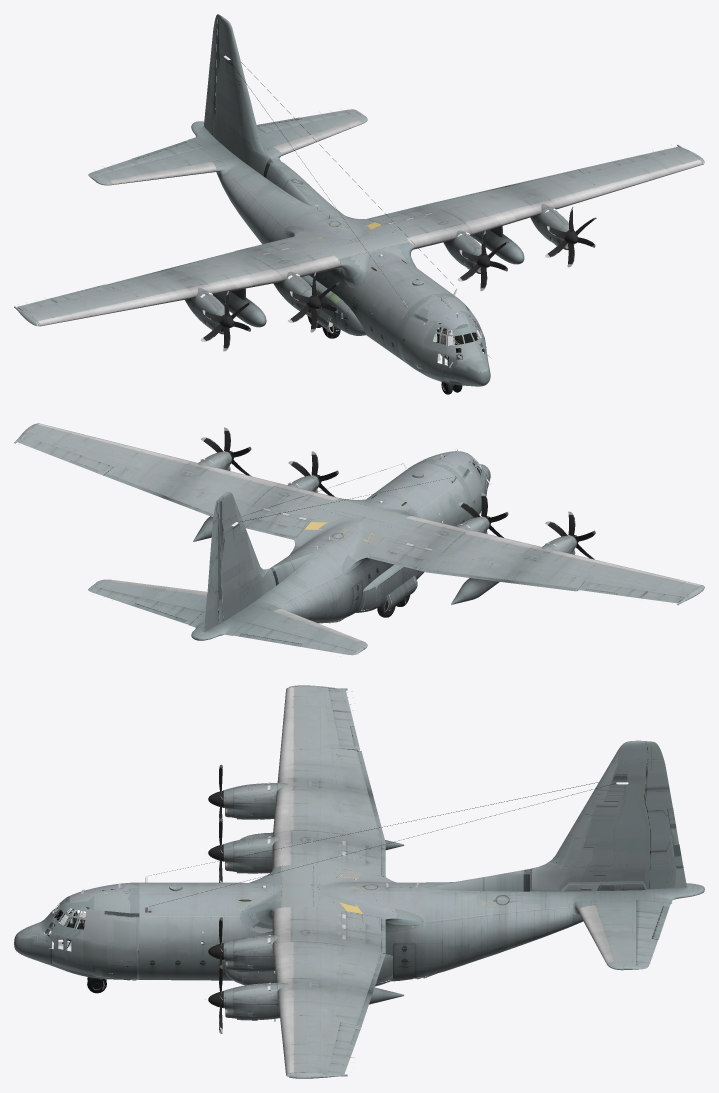
3 renders of one model, top to bottom at view 1: azimuth 30°, elevation 25°; view 2: azimuth 150°, elevation 25°; view 3: azimuth 270°, elevation 25°, orthographic. The views are drawn at different scales.
Parts seen in each view (by area): view 1: model_20_Material.006_0, model_51_Material.007_0, model_18_Material.003_0, model_3_Material.001_0, model_10_Material.002_0, model_8_Material_0, model_52_Material.005_0, model_17_Material.008_0, model_62.002_prop.002_0, model_62_prop_0, model_62.003_prop.003_0, model_62.001_prop.001_0; view 2: model_51_Material.007_0, model_20_Material.006_0, model_18_Material.003_0, model_10_Material.002_0, model_8_Material_0, model_3_Material.001_0, model_17_Material.008_0, model_52_Material.005_0, model_62.003_prop.003_0, model_62_prop_0, model_62.002_prop.002_0, model_62.001_prop.001_0; view 3: model_10_Material.002_0, model_51_Material.007_0, model_20_Material.006_0, model_8_Material_0, model_3_Material.001_0, model_18_Material.003_0, model_52_Material.005_0, model_17_Material.008_0.
Boxes of the visible parts, left/top/right/bottom form: model_20_Material.006_0: left=17, top=144, right=704, bottom=311; model_51_Material.007_0: left=14, top=146, right=683, bottom=326; model_18_Material.003_0: left=94, top=112, right=367, bottom=244; model_3_Material.001_0: left=95, top=180, right=490, bottom=386; model_10_Material.002_0: left=204, top=14, right=365, bottom=335; model_8_Material_0: left=279, top=205, right=455, bottom=363; model_52_Material.005_0: left=185, top=204, right=574, bottom=334; model_17_Material.008_0: left=88, top=109, right=576, bottom=285; model_62.002_prop.002_0: left=457, top=230, right=508, bottom=291; model_62_prop_0: left=201, top=291, right=252, bottom=351; model_62.003_prop.003_0: left=545, top=207, right=596, bottom=267; model_62.001_prop.001_0: left=288, top=272, right=339, bottom=332; model_51_Material.007_0: left=17, top=436, right=704, bottom=605; model_20_Material.006_0: left=14, top=423, right=683, bottom=603; model_18_Material.003_0: left=95, top=551, right=367, bottom=650; model_10_Material.002_0: left=204, top=492, right=424, bottom=631; model_8_Material_0: left=291, top=461, right=469, bottom=619; model_3_Material.001_0: left=232, top=451, right=490, bottom=650; model_17_Material.008_0: left=88, top=474, right=576, bottom=655; model_52_Material.005_0: left=193, top=451, right=577, bottom=604; model_62.003_prop.003_0: left=201, top=427, right=251, bottom=476; model_62_prop_0: left=545, top=511, right=595, bottom=559; model_62.002_prop.002_0: left=288, top=451, right=338, bottom=496; model_62.001_prop.001_0: left=458, top=492, right=508, bottom=537; model_10_Material.002_0: left=225, top=740, right=686, bottom=1020; model_51_Material.007_0: left=272, top=685, right=380, bottom=1074; model_20_Material.006_0: left=272, top=688, right=380, bottom=1078; model_8_Material_0: left=130, top=882, right=425, bottom=981; model_3_Material.001_0: left=14, top=865, right=671, bottom=980; model_18_Material.003_0: left=425, top=882, right=704, bottom=975; model_52_Material.005_0: left=223, top=751, right=404, bottom=1020; model_17_Material.008_0: left=357, top=751, right=670, bottom=1025.
Bounding box in the file's own units: 801 × 238 × 598.
Materials: 14 (13 with a texture image).
